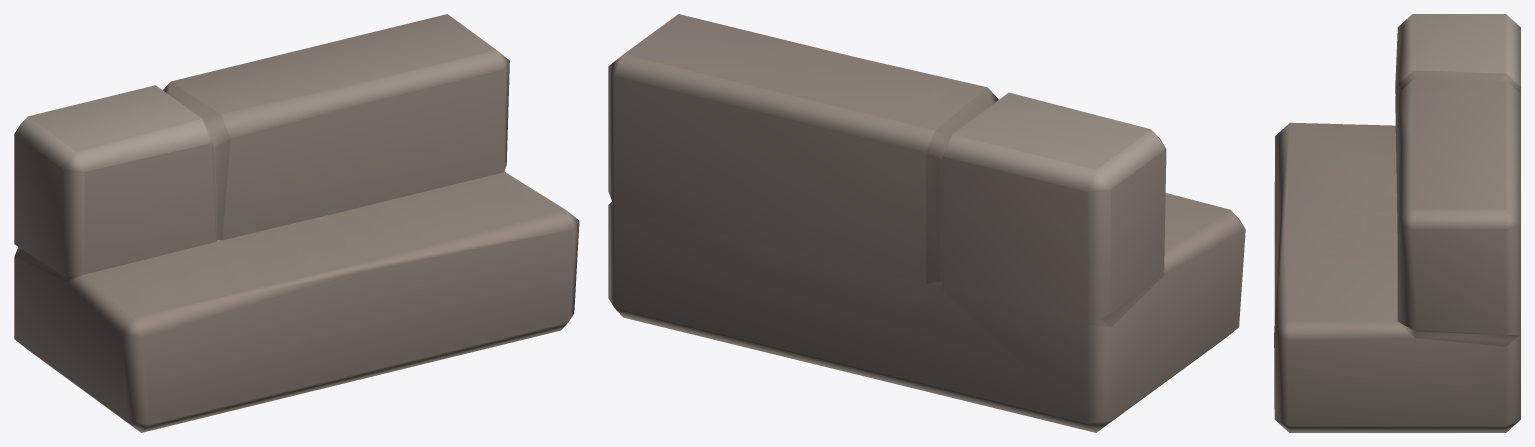
File: elf_stairs_half_2_shade_3.fbx
3 views of the same model, side by side, from view 1: azimuth 30°, elevation 25°; view 2: azimuth 150°, elevation 25°; view 3: azimuth 270°, elevation 25° (orthographic). The views are drawn at different scales.
Visible parts, largest first — view 1: elf_stairs_half_2_shade_3; view 2: elf_stairs_half_2_shade_3; view 3: elf_stairs_half_2_shade_3.
Boxes of the visible parts, x1,y1,x2,y2 form: elf_stairs_half_2_shade_3: [14, 14, 579, 432]; elf_stairs_half_2_shade_3: [608, 14, 1245, 432]; elf_stairs_half_2_shade_3: [1274, 14, 1520, 432].
Size of the model in its own units: 102 by 50.51 by 50.1.
